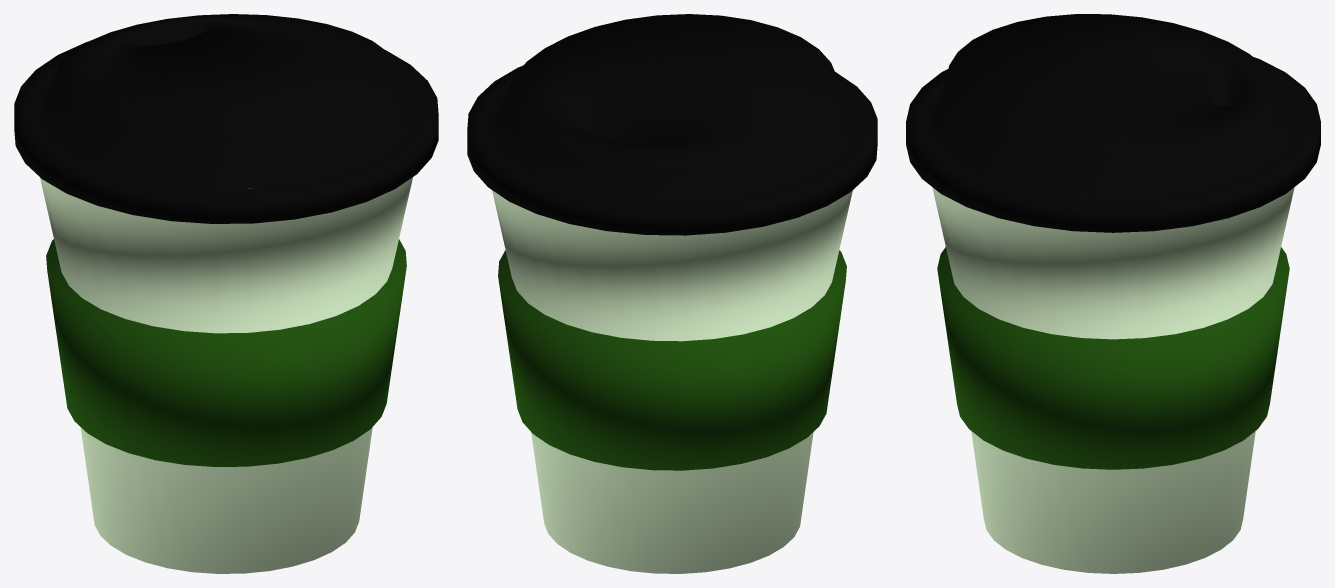
The model's file is Cup.gltf.
3 renders of one model, left to right at view 1: azimuth 30°, elevation 25°; view 2: azimuth 150°, elevation 25°; view 3: azimuth 270°, elevation 25°, orthographic. The views are drawn at different scales.
Visible parts, largest first — view 1: Cylinder.001; view 2: Cylinder.001; view 3: Cylinder.001.
Part boxes in pixels (bbox=[...]): Cylinder.001: bbox=[14, 14, 438, 573]; Cylinder.001: bbox=[467, 14, 877, 573]; Cylinder.001: bbox=[906, 14, 1320, 573].
Size of the model in its own units: 2.01 by 2.36 by 2.01.
Materials: 1 (1 with a texture image).
